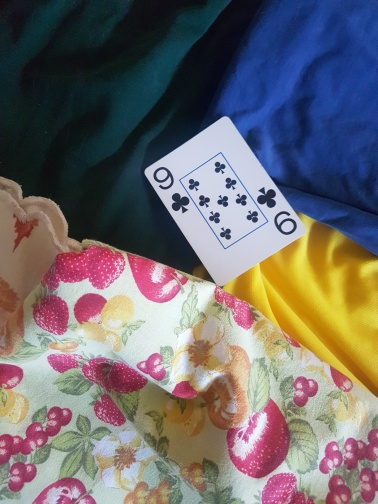nine: (142, 115, 305, 283)
